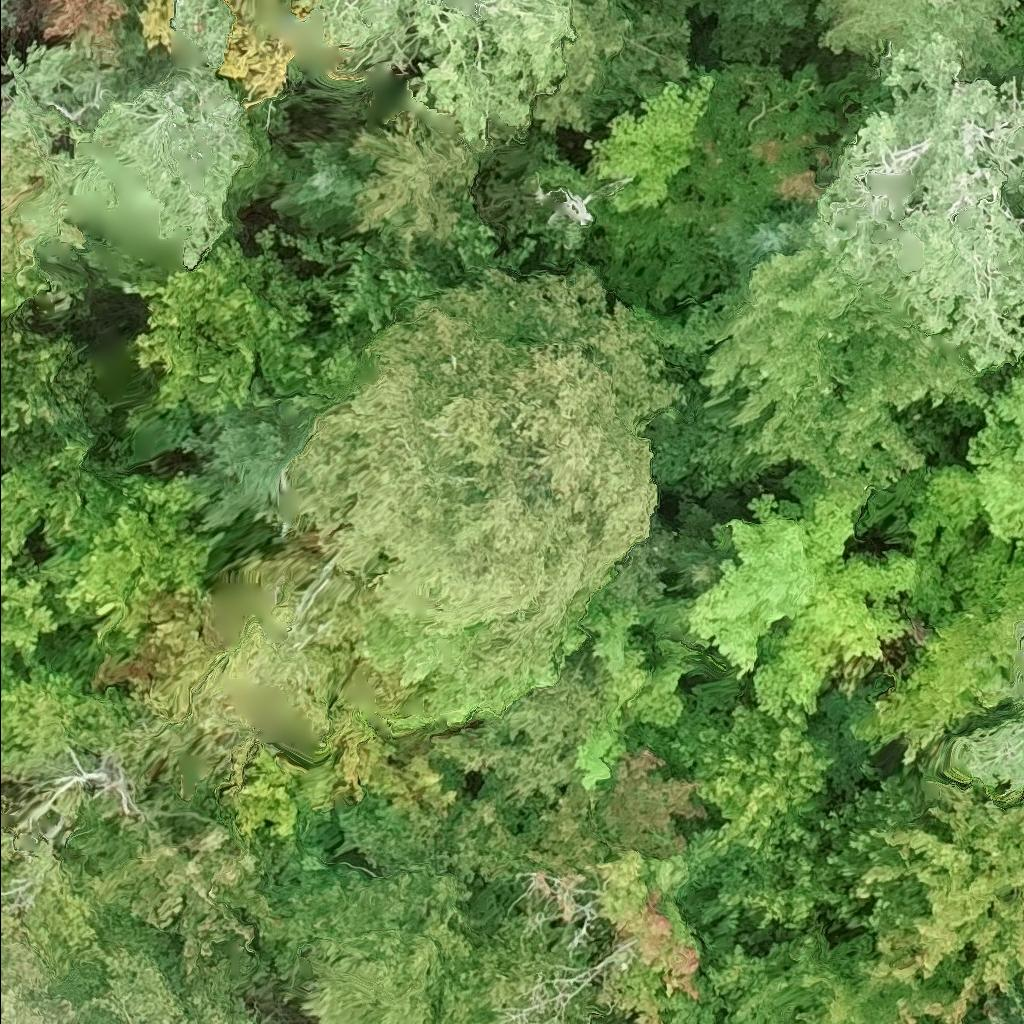crown: (815, 34, 1023, 374), (857, 774, 1023, 1022), (304, 0, 579, 141), (131, 224, 321, 413), (533, 0, 693, 137), (348, 113, 486, 253), (579, 74, 716, 213), (814, 0, 1023, 72), (958, 349, 1023, 555), (270, 130, 371, 237), (688, 0, 821, 65), (34, 0, 134, 44), (965, 990, 1023, 1023), (1013, 983, 1023, 1005)
